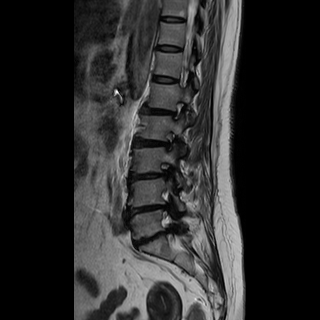LFS2: (166, 98, 190, 125)
LFS3: (156, 155, 178, 184), (159, 127, 179, 155)
